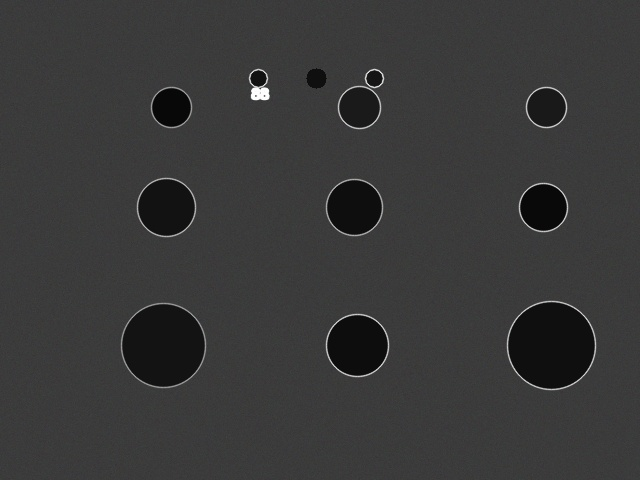hole: (507, 301, 595, 389), (121, 303, 205, 387), (326, 314, 388, 376), (137, 178, 195, 236), (326, 179, 382, 235), (519, 183, 567, 231), (338, 86, 380, 128), (151, 87, 191, 127), (526, 87, 566, 127), (306, 68, 326, 88), (249, 69, 267, 87), (365, 69, 383, 87)
